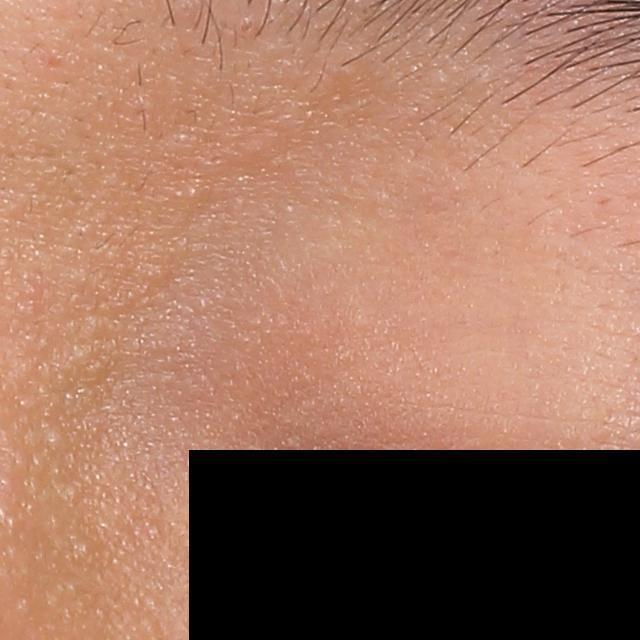comedo: (44, 427, 66, 459)
